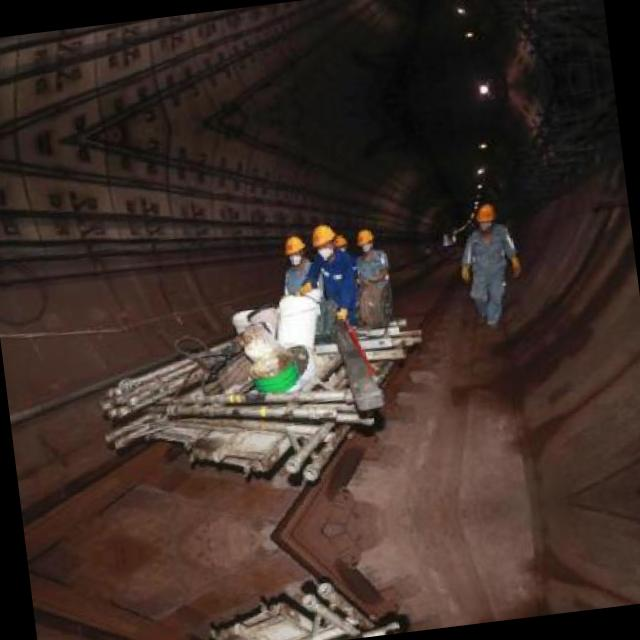helmet: (278, 232, 310, 264), (305, 222, 337, 254), (472, 197, 501, 229), (328, 228, 348, 258), (354, 228, 378, 252)
